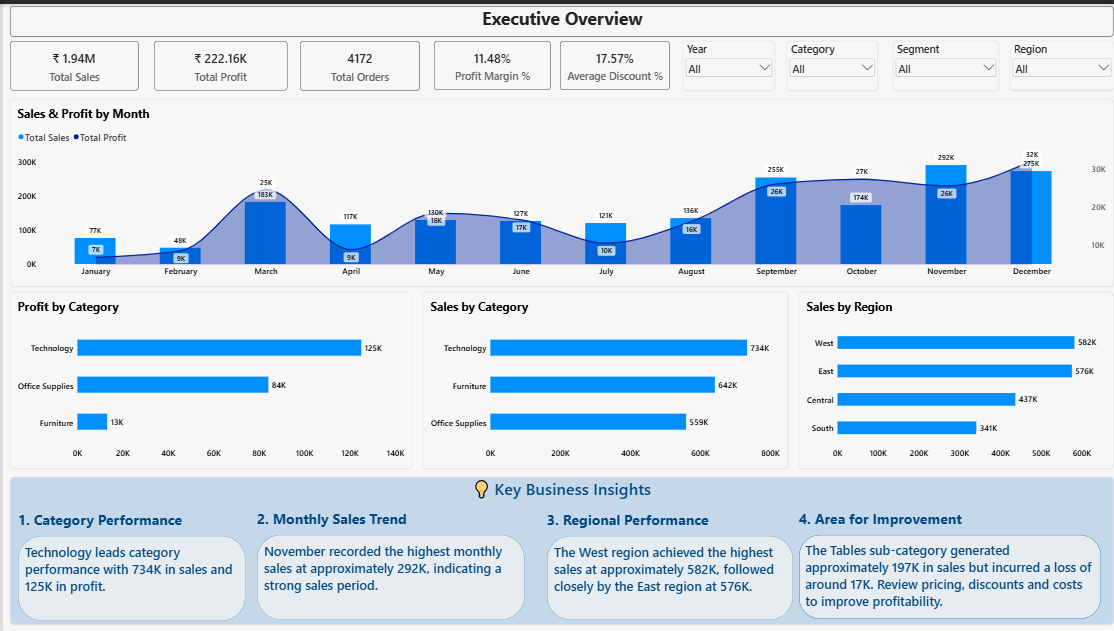

The page's visual inventory and layout, read from the dashboard file:
{"tool":"powerbi","page":{"name":"Executive Overview","canvas":[2560,1440],"ordinal":0},"visuals":[{"type":"card","title":"Total Sales","fields":{"Values":["All Measures.Total Sales"]},"box":[16.2,83.5,293.7,113.2],"z":0},{"type":"textbox","title":"Executive Overview","box":[16.2,5.4,2522.3,70.1],"z":1000},{"type":"card","title":"Total Sales","fields":{"Values":["All Measures.Total Profit"]},"box":[344.9,83.5,304.5,113.2],"z":2000},{"type":"card","title":"Total Sales","fields":{"Values":["All Measures.Total Orders"]},"box":[678.9,84.6,274.3,114.3],"z":3000},{"type":"card","title":"Total Sales","fields":{"Values":["All Measures.Profit Margin %"]},"box":[985.1,84.6,267.4,112],"z":4000},{"type":"card","title":"Total Sales","fields":{"Values":["All Measures.Average Discount %"]},"box":[1273.1,84.6,251.4,112],"z":5000},{"type":"lineClusteredColumnComboChart","title":"Sales & Profit by Month","fields":{"Category":["Dim_Date.Month"],"Y":["All Measures.Total Sales"],"Y2":["All Measures.Total Profit"]},"box":[16.2,218.3,2522.3,428.5],"z":6000},{"type":"clusteredBarChart","title":"Sales by Category","fields":{"Category":["Dim_Product.Category"],"Y":["All Measures.Total Sales"]},"box":[959.3,657.5,832.7,404.2],"z":7000},{"type":"clusteredBarChart","title":"Profit by Category","fields":{"Category":["Retail Sales Analytics Dashboard.Category"],"Y":["All Measures.Total Profit"]},"box":[16.2,657.5,918.9,404.2],"z":8000},{"type":"clusteredBarChart","title":"Sales by Region","fields":{"Category":["Retail Sales Analytics Dashboard.Region"],"Y":["All Measures.Total Sales"]},"box":[1818.9,657.5,719.5,404.2],"z":9000},{"type":"slicer","fields":{"Values":["Dim_Date.Year"]},"box":[1554.9,83.5,210.2,113.2],"z":10000},{"type":"slicer","fields":{"Values":["Retail Sales Analytics Dashboard.Category"]},"box":[1792,83.5,207.5,113.2],"z":11000},{"type":"slicer","fields":{"Values":["Retail Sales Analytics Dashboard.Region"]},"box":[2301.7,84.6,237.7,112],"z":12000},{"type":"slicer","fields":{"Values":["Retail Sales Analytics Dashboard.Segment"]},"box":[2034.3,84.6,242.3,114.3],"z":13000},{"type":"textbox","title":"💡 Key Business Insights","box":[16.2,1080.6,2522.3,336.8],"z":14000},{"type":"shape","title":"1. Category Performance","box":[34.3,1156.6,520.1,253.3],"z":15000},{"type":"shape","title":"2. Monthly Sales Trend","box":[580.6,1154.3,611.7,253.3],"z":16000},{"type":"shape","title":"3. Regional Performance","box":[1243.4,1156.6,562.3,251.4],"z":17000},{"type":"shape","title":"4. Area for Improvement","box":[1819.4,1154.3,690.3,251.4],"z":18000}]}

Visuals, with their boxes in screenshot pixels (x1, y1, x2, y2), scaled from the page's 2560x1440 canvas onto the 1114x631 screenshot:
"Total Sales" card: [left=7, top=37, right=135, bottom=86]
"Executive Overview" textbox: [left=7, top=2, right=1105, bottom=33]
"Total Sales" card: [left=150, top=37, right=283, bottom=86]
"Total Sales" card: [left=295, top=37, right=415, bottom=87]
"Total Sales" card: [left=429, top=37, right=545, bottom=86]
"Total Sales" card: [left=554, top=37, right=663, bottom=86]
"Sales & Profit by Month" lineClusteredColumnComboChart: [left=7, top=96, right=1105, bottom=283]
"Sales by Category" clusteredBarChart: [left=417, top=288, right=780, bottom=465]
"Profit by Category" clusteredBarChart: [left=7, top=288, right=407, bottom=465]
"Sales by Region" clusteredBarChart: [left=792, top=288, right=1105, bottom=465]
slicer - Dim_Date.Year: [left=677, top=37, right=768, bottom=86]
slicer - Retail Sales Analytics Dashboard.Category: [left=780, top=37, right=870, bottom=86]
slicer - Retail Sales Analytics Dashboard.Region: [left=1002, top=37, right=1105, bottom=86]
slicer - Retail Sales Analytics Dashboard.Segment: [left=885, top=37, right=991, bottom=87]
"💡 Key Business Insights" textbox: [left=7, top=474, right=1105, bottom=621]
"1. Category Performance" shape: [left=15, top=507, right=241, bottom=618]
"2. Monthly Sales Trend" shape: [left=253, top=506, right=519, bottom=617]
"3. Regional Performance" shape: [left=541, top=507, right=786, bottom=617]
"4. Area for Improvement" shape: [left=792, top=506, right=1092, bottom=616]
